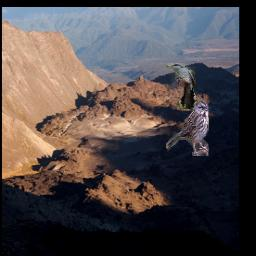Cuckoo: (166, 63, 196, 109)
Sparrow: (166, 100, 209, 157)
